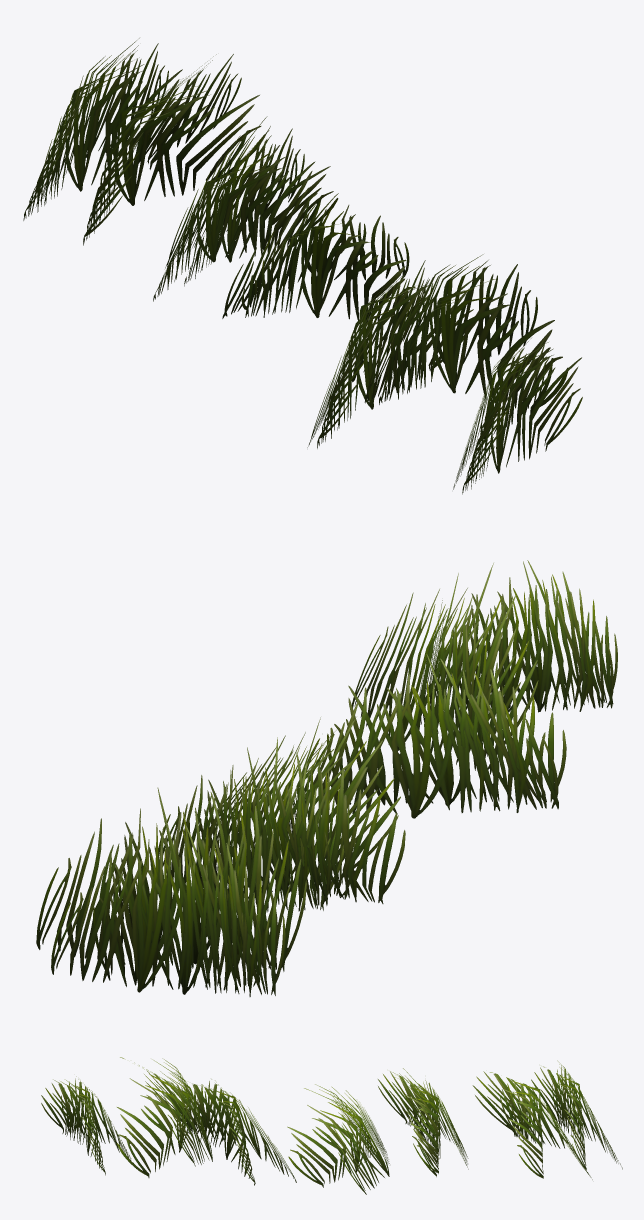
File: grassKit_front_border_l.fbx
The picture shows the model from 3 angles, top to bottom: view 1: azimuth 30°, elevation 25°; view 2: azimuth 150°, elevation 25°; view 3: azimuth 270°, elevation 25°; orthographic projection. The views are drawn at different scales.
Visible parts, largest first — view 1: grassKit_front_border_l; view 2: grassKit_front_border_l; view 3: grassKit_front_border_l.
Part boxes in pixels (<box>): grassKit_front_border_l: <box>23,38,582,494</box>; grassKit_front_border_l: <box>36,560,617,996</box>; grassKit_front_border_l: <box>41,1057,622,1194</box>.
Size of the model in its own units: 1.5 by 1.08 by 4.49.
